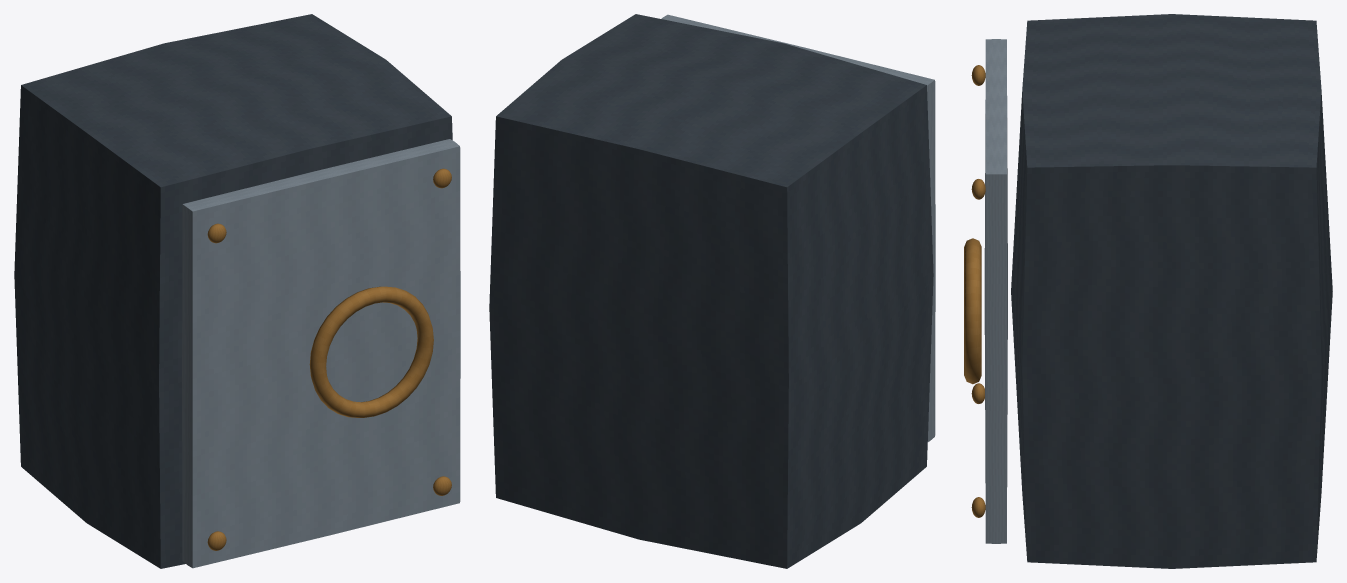
The picture shows the model from 3 angles, left to right: view 1: azimuth 30°, elevation 25°; view 2: azimuth 150°, elevation 25°; view 3: azimuth 270°, elevation 25°; orthographic projection. The views are drawn at different scales.
Parts seen in each view (by area): view 1: iron.0, steel.1, brass.2; view 2: iron.0, steel.1; view 3: iron.0, steel.1, brass.2.
Boxes of the visible parts, box(x1,y1,x2,y2) form: iron.0: box(14, 14, 452, 568); steel.1: box(182, 139, 460, 568); brass.2: box(309, 286, 433, 417); iron.0: box(489, 14, 933, 568); steel.1: box(661, 14, 935, 441); iron.0: box(1011, 14, 1332, 568); steel.1: box(984, 39, 1007, 543); brass.2: box(964, 238, 981, 384).
Bounding box in the file's own units: 0.65 × 0.8 × 0.63.
Materials: 3 (3 with a texture image).
